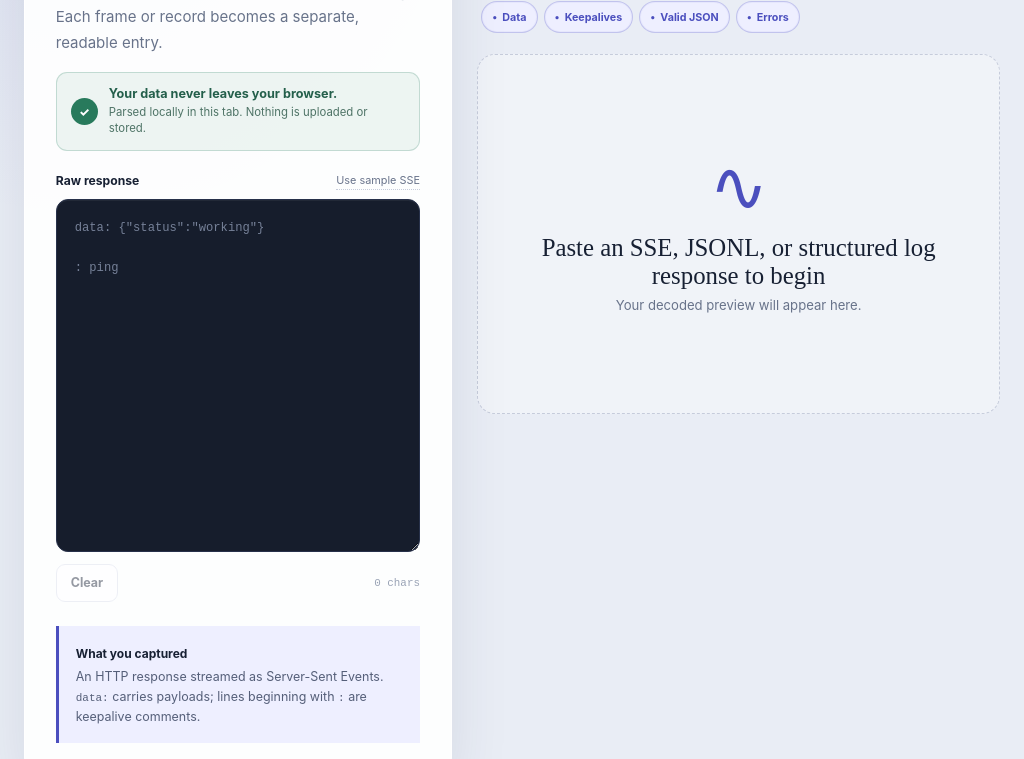
Test: App › does not let the sample replace pasted input
This screenshot has width=1024, height=759.
(page scrolled)
Click the text box labelled "Raw response": (238, 375) [56,198,420,552]
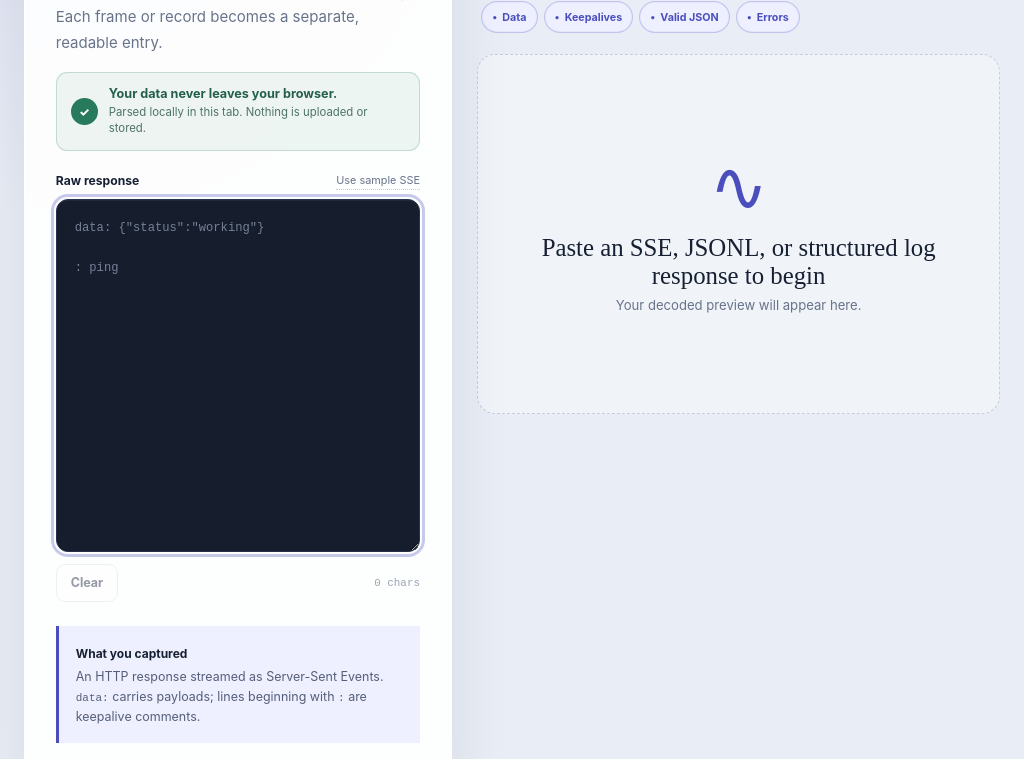
Type keys "{\"mine\":true}"
(page scrolled)
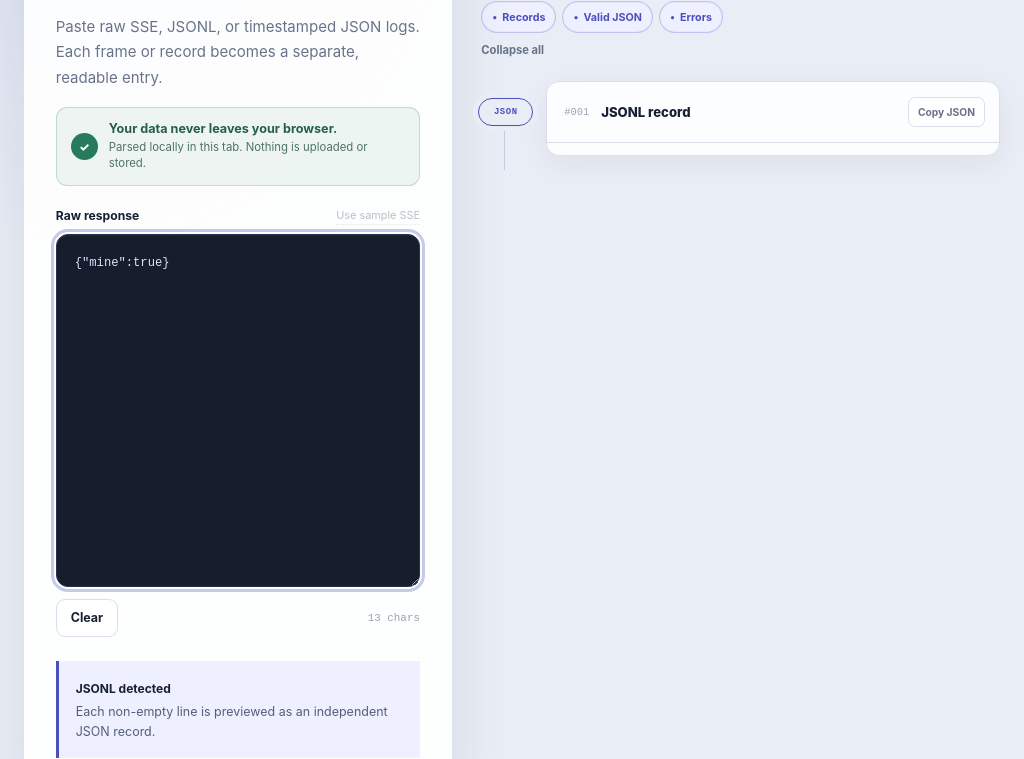
Expected: the button "Use sample SSE" is disabled, [336,206,420,224]
